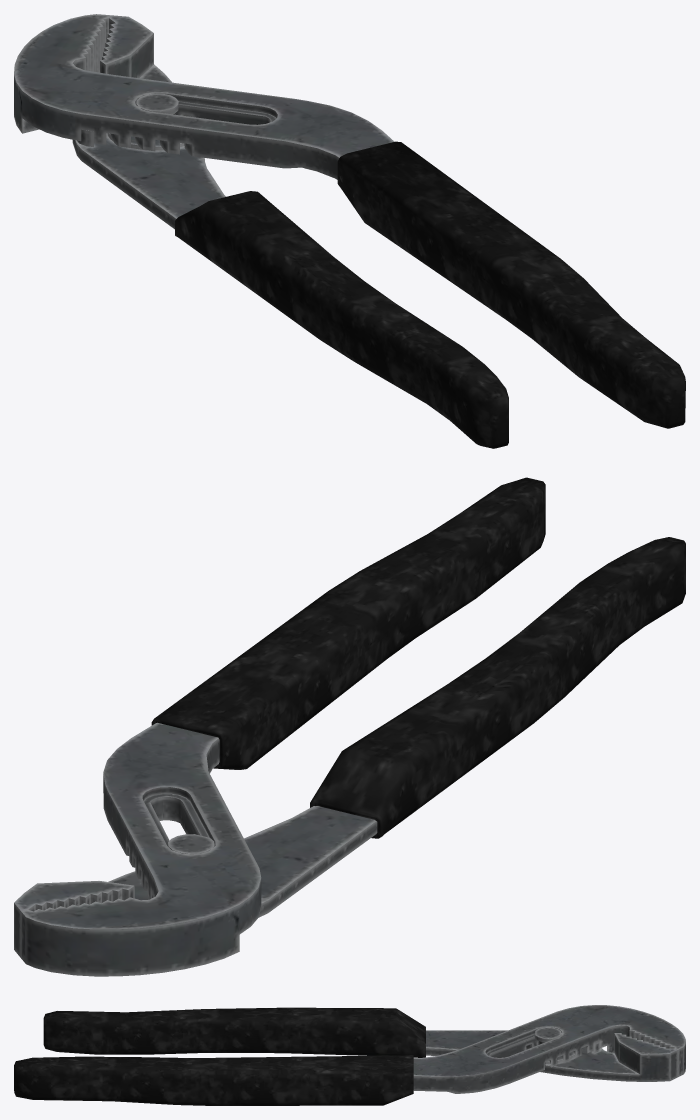
Rendered from tongue_groove_pliers.glb.
3 renders of one model, top to bottom at view 1: azimuth 30°, elevation 25°; view 2: azimuth 150°, elevation 25°; view 3: azimuth 270°, elevation 25°, orthographic. The views are drawn at different scales.
Visible parts, largest first — view 1: tongue_groove_pliers_l; view 2: tongue_groove_pliers_l; view 3: tongue_groove_pliers_l.
Part boxes in pixels (x1,y1,x2,y2): tongue_groove_pliers_l: [14, 14, 685, 448]; tongue_groove_pliers_l: [14, 477, 685, 976]; tongue_groove_pliers_l: [14, 1005, 685, 1105].
Bounding box in the file's own units: 0.0624 × 0.0138 × 0.2444.
1 material, 1 textured.
